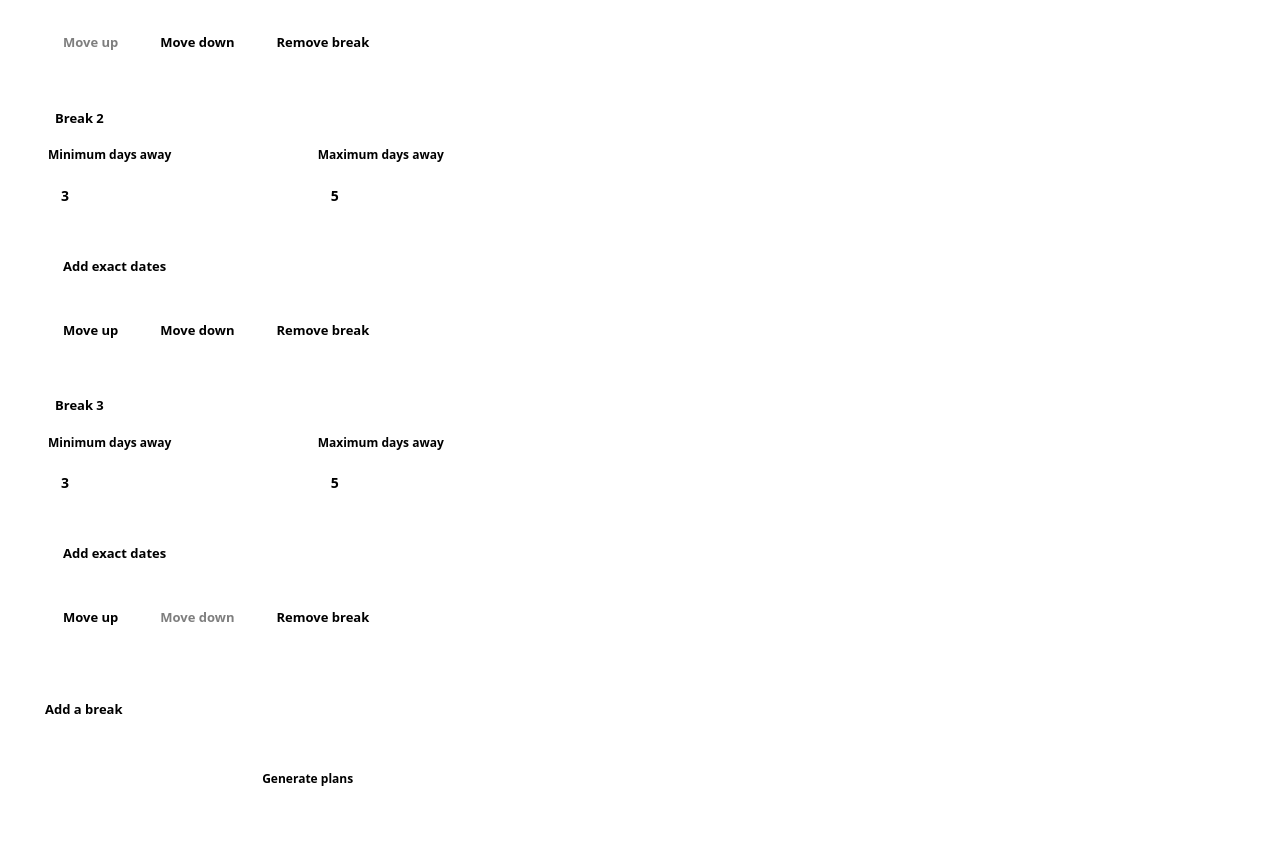
Test: a response with broken aggregate accounting cannot become a usable result
(page scrolled)
Click the button "Generate plans": (308, 779) [30,756,585,802]
(page scrolled)
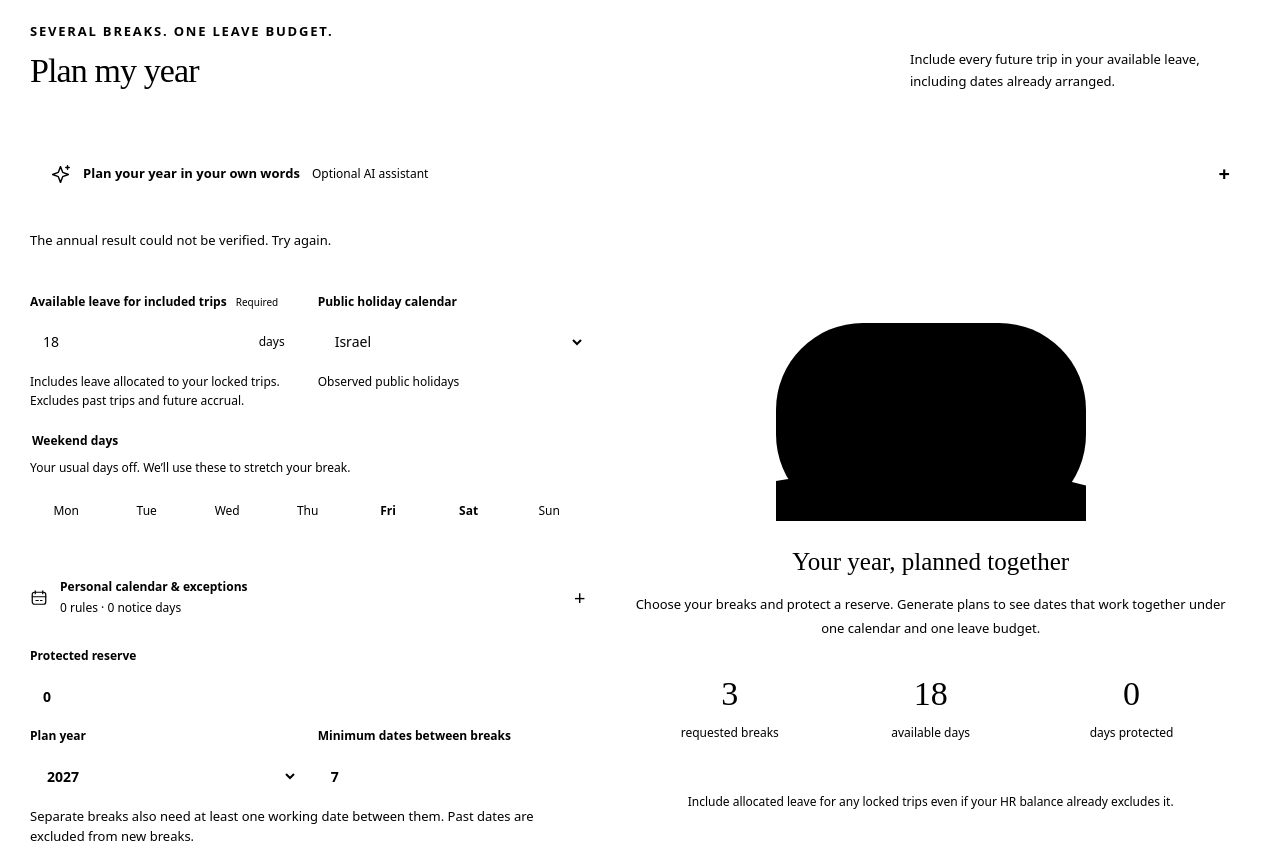
Result: the message shows "The annual result could not be verified" at [30,231,331,249]
